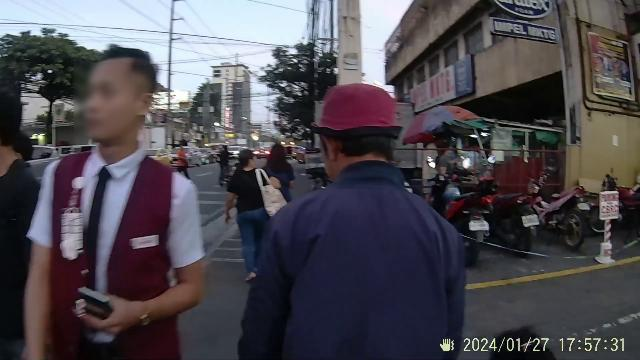street_vendor_cart: (406, 102, 494, 172)
utility_post: (162, 1, 198, 110)
